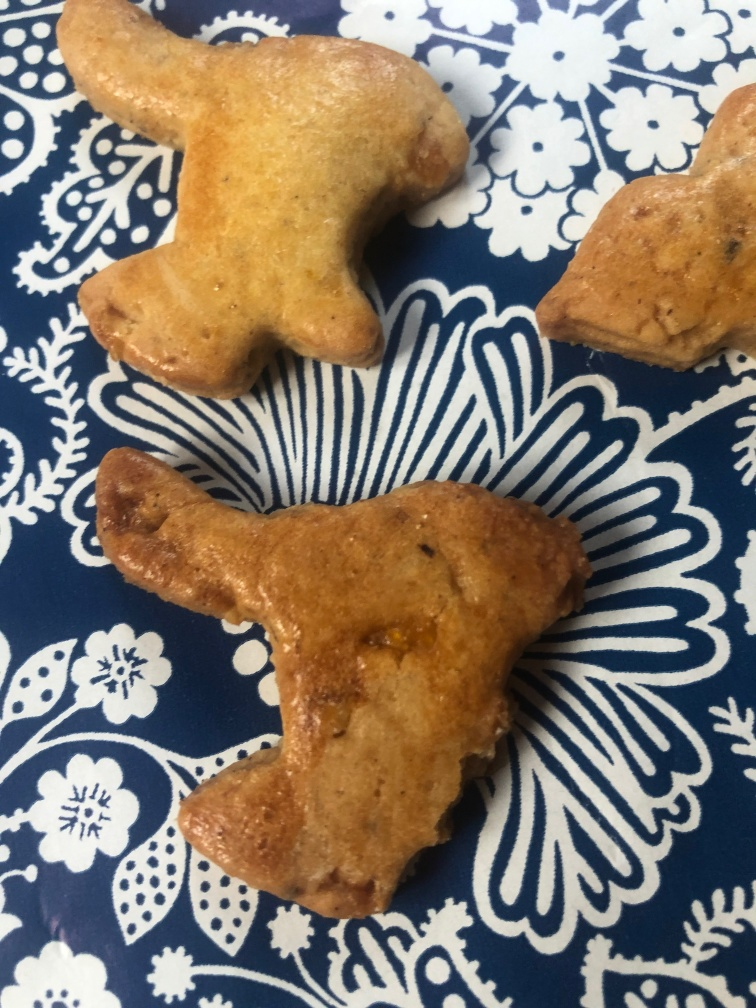christmas tree: (527, 70, 755, 381)
squirrel: (80, 428, 587, 929), (54, 1, 475, 405)
